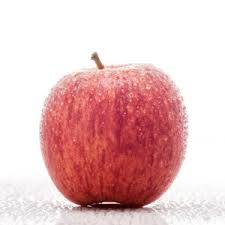apple: (38, 50, 190, 210)
